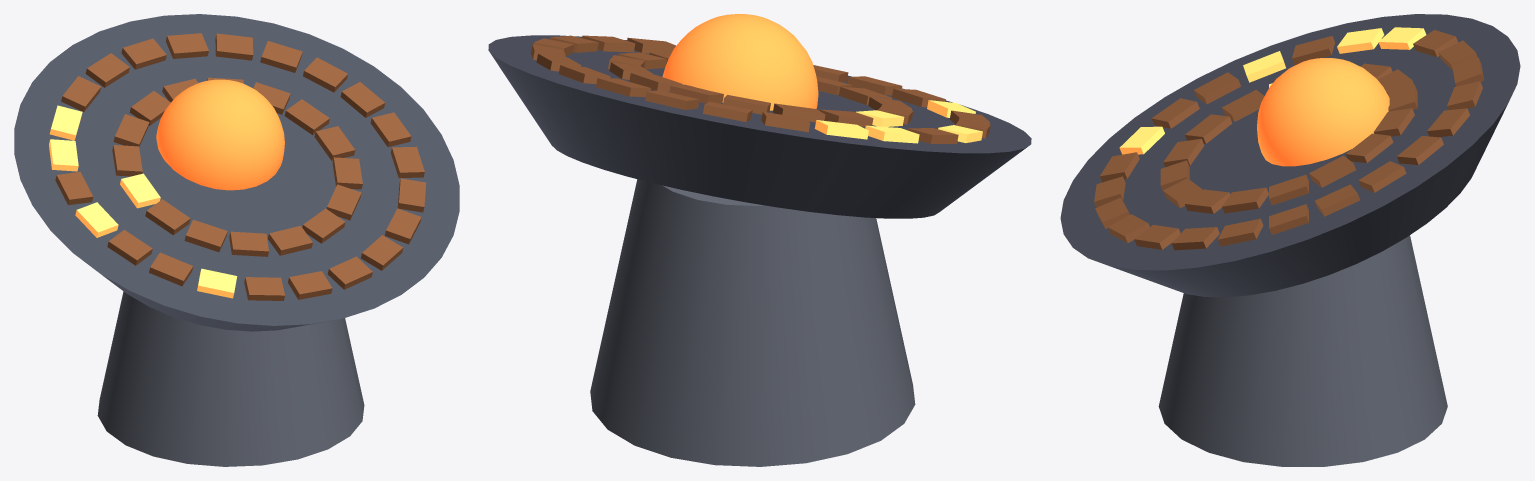
Rendered from dhd.glb.
The picture shows the model from 3 angles, left to right: view 1: azimuth 30°, elevation 25°; view 2: azimuth 150°, elevation 25°; view 3: azimuth 270°, elevation 25°; orthographic projection. The views are drawn at different scales.
Bounding box in the file's own units: 2.83 × 2.19 × 2.66.
